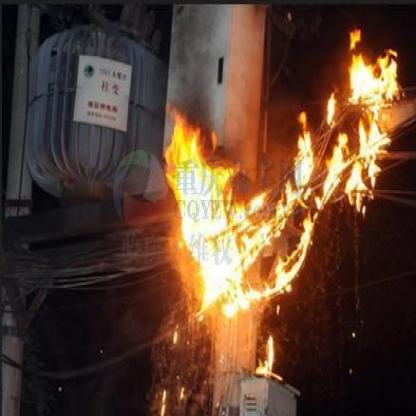fire: (148, 28, 404, 318), (250, 327, 280, 376), (155, 383, 166, 413), (172, 322, 180, 345)
